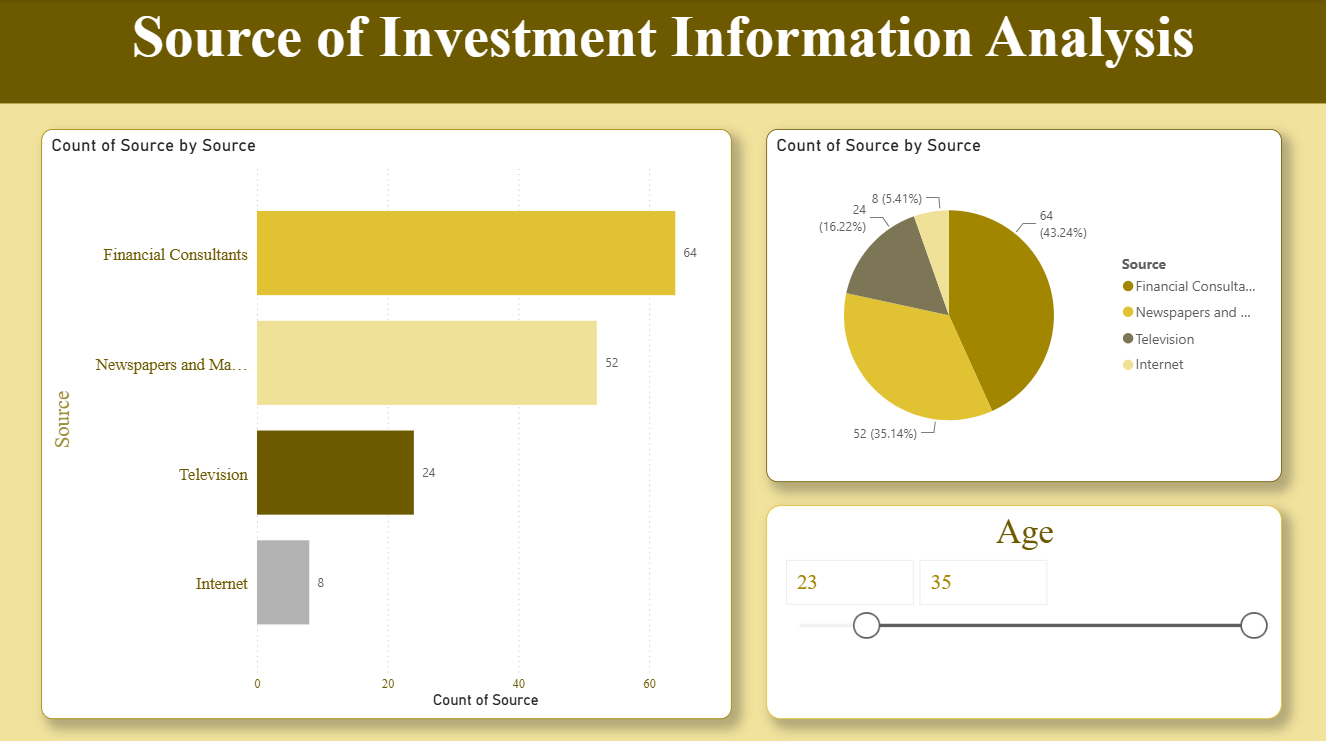

The dashboard page shown, as its layout file describes it:
{"tool":"powerbi","page":{"name":"Page 6","canvas":[1280,720],"ordinal":5},"visuals":[{"type":"textbox","box":[0,0,1280.4,100.6],"z":0},{"type":"pieChart","fields":{"Y":["CountNonNull(Data_set 2.Source)"],"Category":["Data_set 2.Source"]},"box":[739.8,125.7,497.4,341.2],"z":1000},{"type":"clusteredBarChart","fields":{"Y":["CountNonNull(Data_set 2.Source)"],"Category":["Data_set 2.Source"]},"box":[39.5,125.7,666.2,569.3],"z":2000},{"type":"slicer","title":"Age","fields":{"Values":["Data_set 2.age"]},"box":[739.8,488.4,497.4,206.5],"z":3000}]}

Visuals, with their boxes in screenshot pixels (x1, y1, x2, y2), scaled from the page's 1280x720 canvas onto the 1326x741 screenshot:
textbox: {"left": 0, "top": 0, "right": 1325, "bottom": 104}
pieChart - CountNonNull(Data_set 2.Source) x Data_set 2.Source: {"left": 766, "top": 129, "right": 1282, "bottom": 481}
clusteredBarChart - CountNonNull(Data_set 2.Source) x Data_set 2.Source: {"left": 41, "top": 129, "right": 731, "bottom": 715}
"Age" slicer: {"left": 766, "top": 503, "right": 1282, "bottom": 715}
